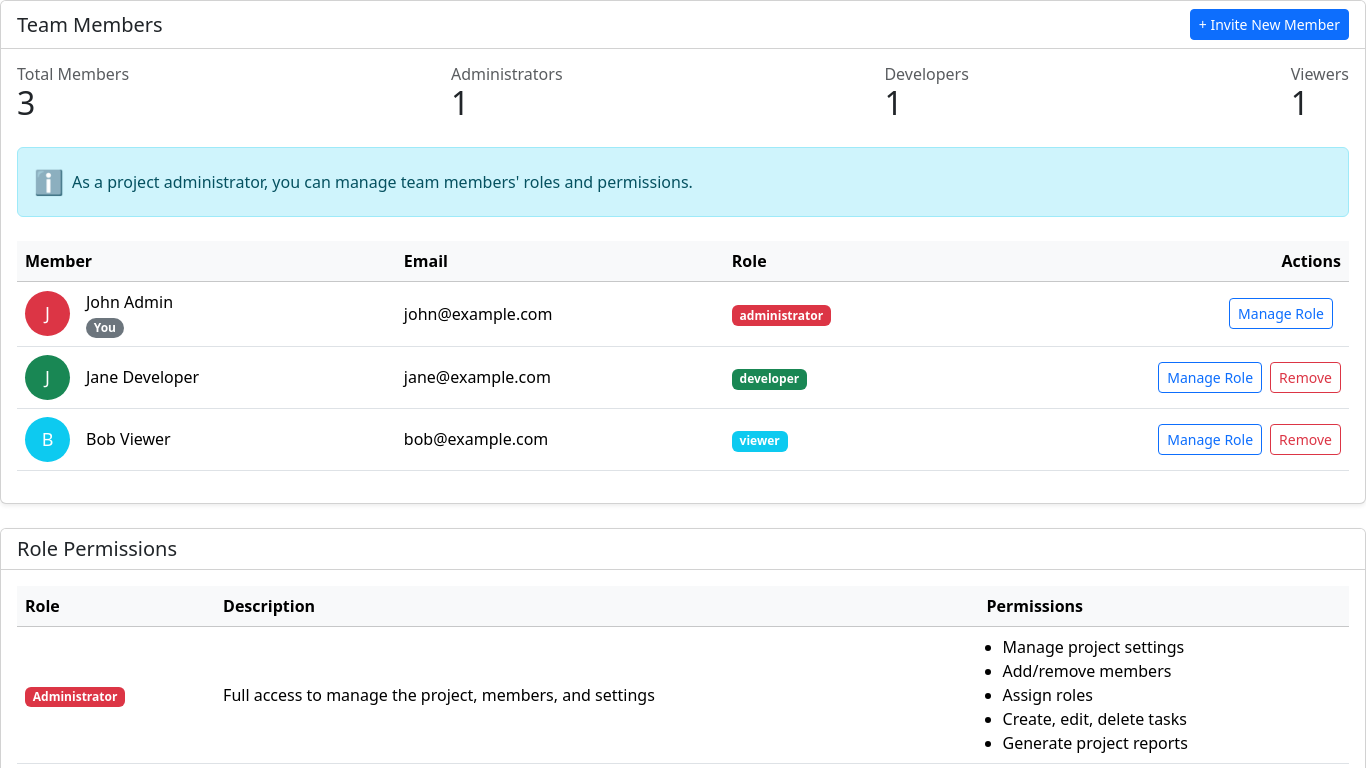
Test case: generates invite link when button is clicked
Click the button "+ Invite New Member" at (1269,24), box [1190,9,1349,40]
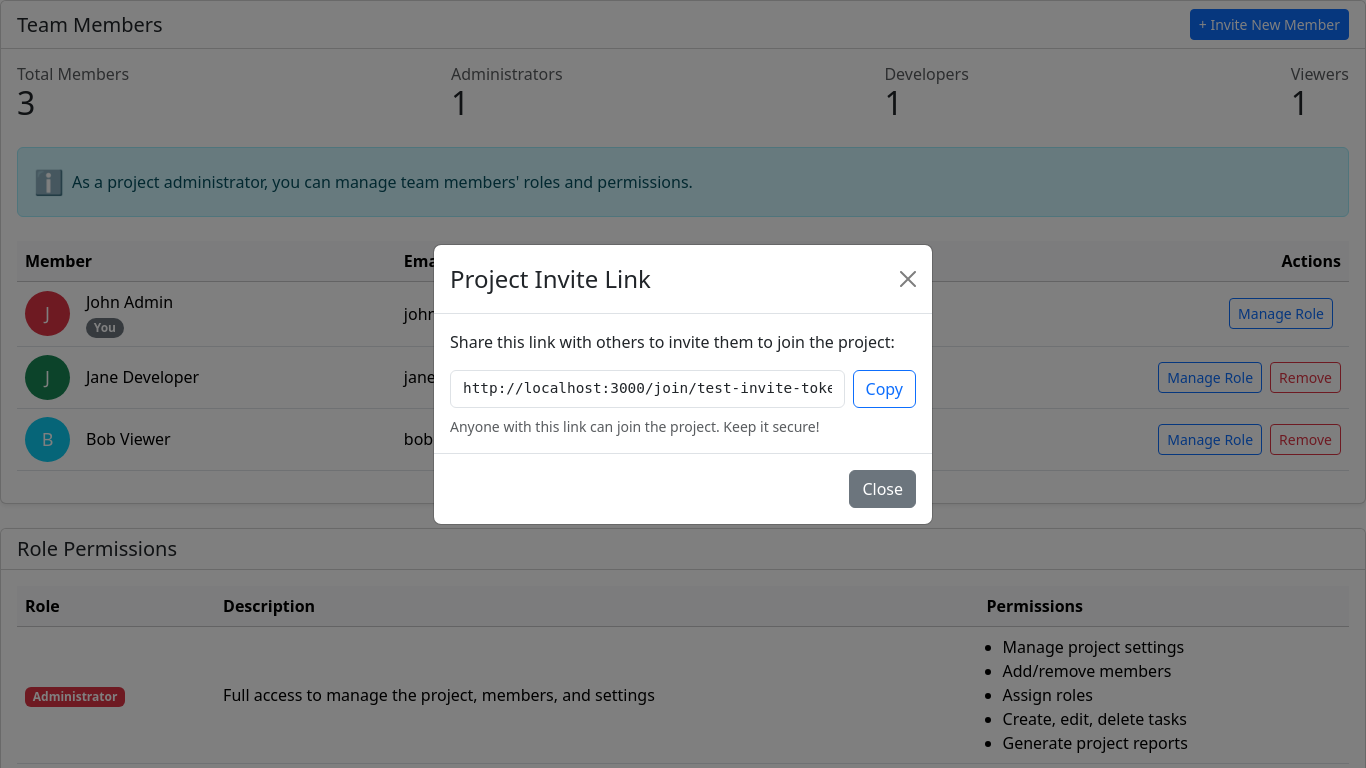
Check: the text "Project Invite Link" is shown, box [450,260,651,296]
Check: the field showing "http://localhost:3000/join/test-invite-token" is shown, box [450,370,844,408]
